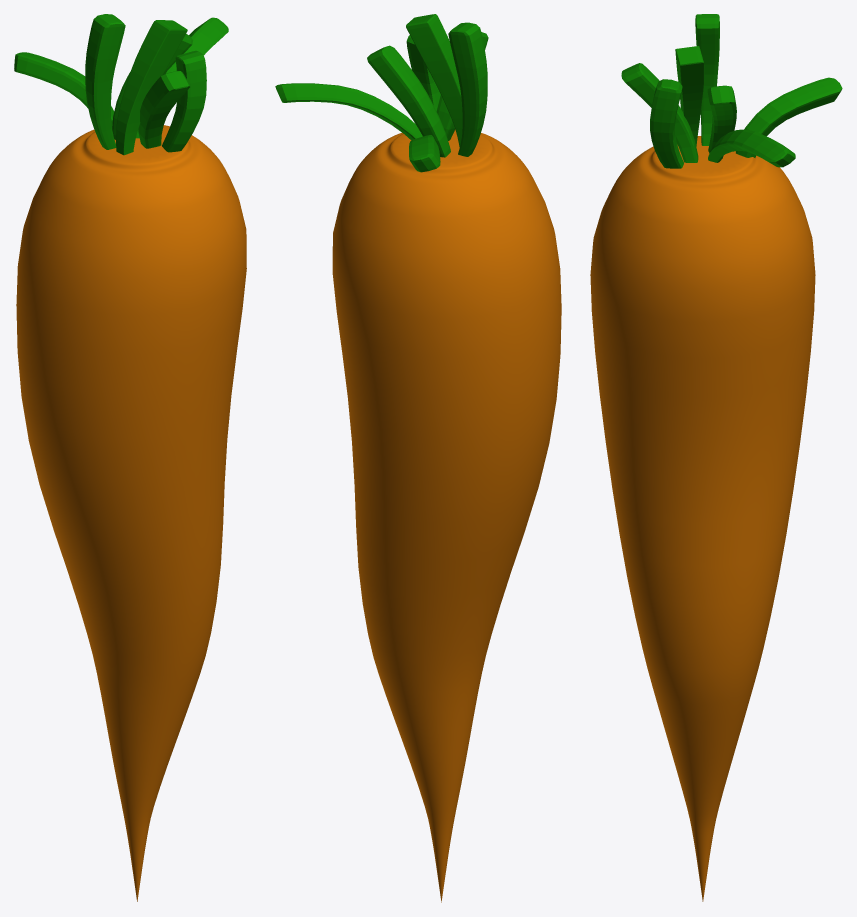
The model's file is Carrot.fbx.
3 renders of one model, left to right at view 1: azimuth 30°, elevation 25°; view 2: azimuth 150°, elevation 25°; view 3: azimuth 270°, elevation 25°, orthographic.
Visible parts, largest first — view 1: Cube.005; view 2: Cube.005; view 3: Cube.005.
Part boxes in pixels (box(x1,y1,x2,y2)): Cube.005: box(14, 14, 246, 901); Cube.005: box(275, 14, 561, 902); Cube.005: box(590, 14, 842, 901).
Bounding box in the file's own units: 226 × 820 × 215.
